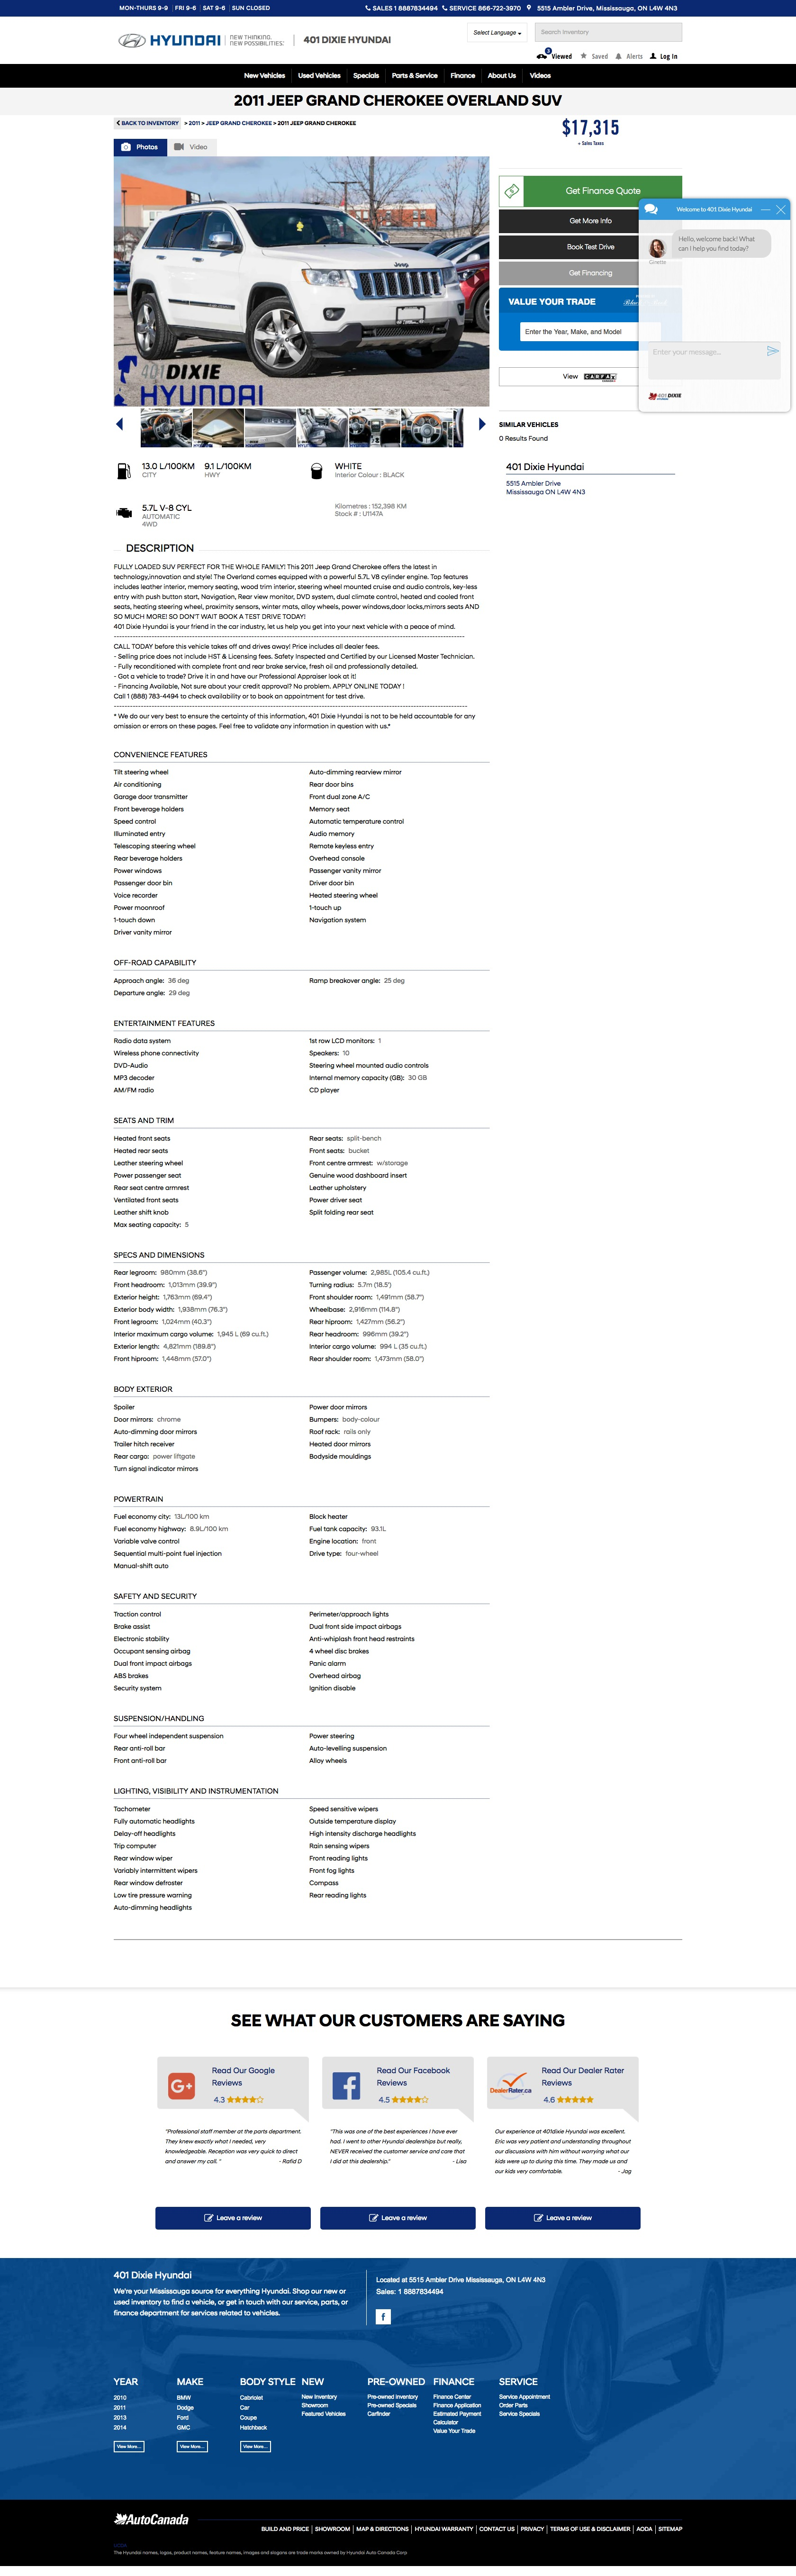car: (476, 417, 489, 432)
